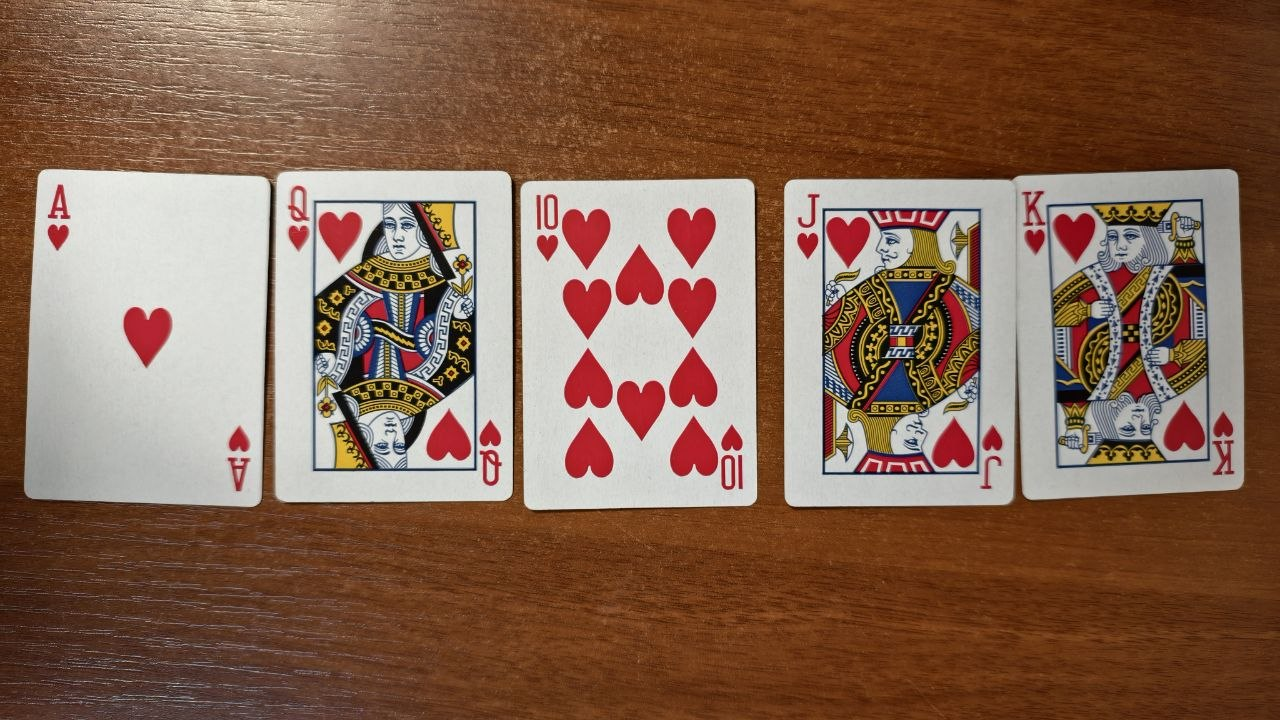10H: (520, 178, 761, 510)
AH: (22, 166, 271, 508)
JH: (782, 176, 1018, 508)
KH: (1016, 168, 1246, 500)
QH: (274, 169, 515, 502)
